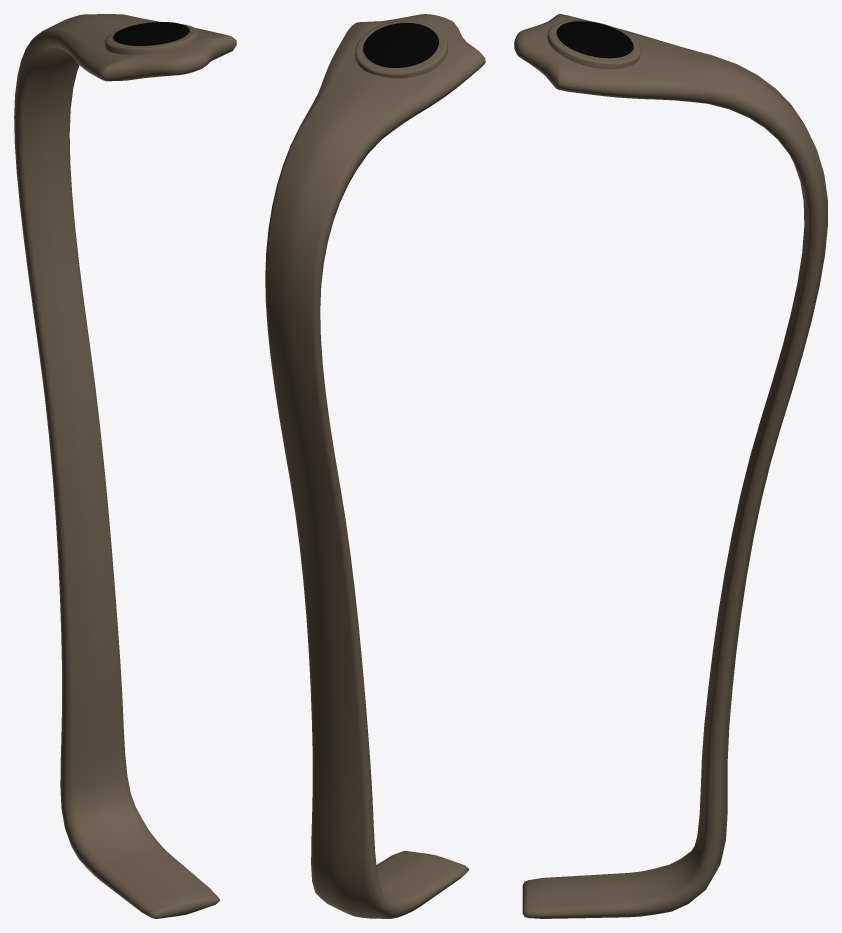
The model's file is Display_Button.FBX.
3 renders of one model, left to right at view 1: azimuth 30°, elevation 25°; view 2: azimuth 150°, elevation 25°; view 3: azimuth 270°, elevation 25°, orthographic. The views are drawn at different scales.
Visible parts, largest first — view 1: Display_Button; view 2: Display_Button; view 3: Display_Button.
Part boxes in pixels (left/top/right/bottom): Display_Button: left=14, top=14, right=236, bottom=918; Display_Button: left=265, top=14, right=485, bottom=918; Display_Button: left=514, top=14, right=827, bottom=918.
Bounding box in the file's own units: 23.13 × 45.79 × 141.
